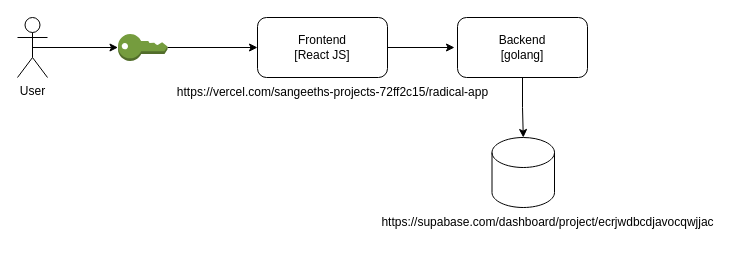
This 745x255 diagram has some shape labels left out. Each missing label, with the box of its shape:
DB [postgres]: (491, 136, 554, 208)
Login: (117, 33, 168, 61)
